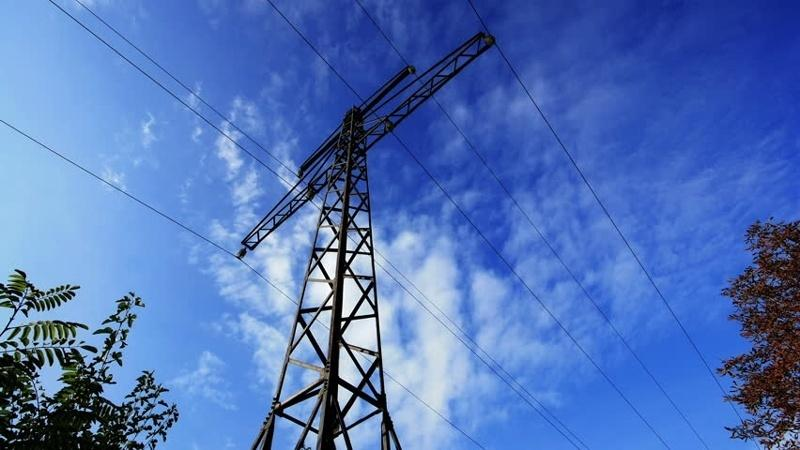power_tower: (247, 54, 458, 439)
